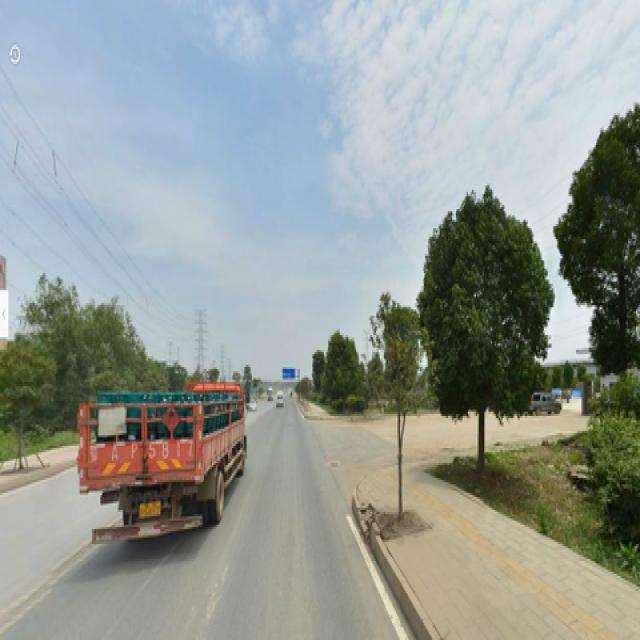cinn: (428, 192, 541, 491)
